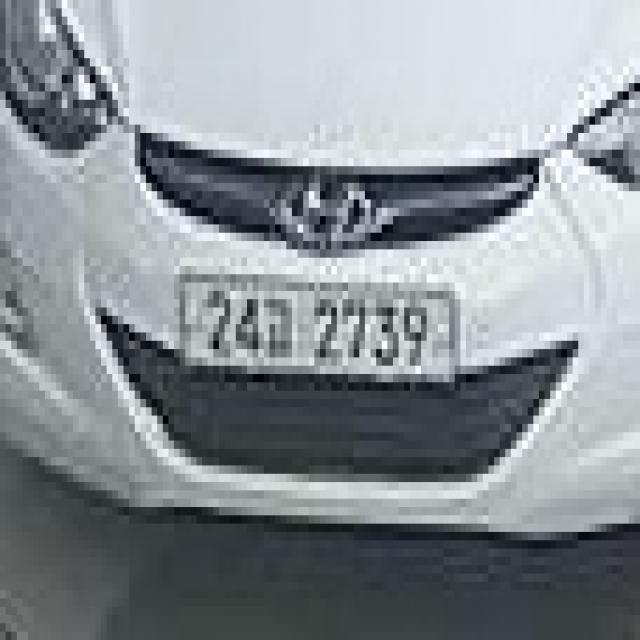2: (196, 282, 233, 356), (308, 298, 342, 360)
3: (376, 296, 402, 369)
4: (236, 287, 262, 357)
7: (348, 292, 371, 365)
9: (403, 296, 431, 373)
go: (265, 292, 298, 358)
license_plate: (181, 269, 457, 382)
